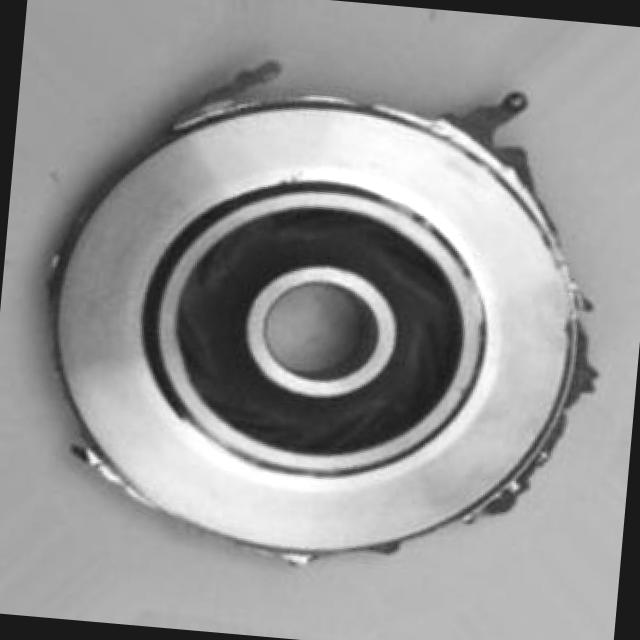Defect: (449, 77, 524, 162)
